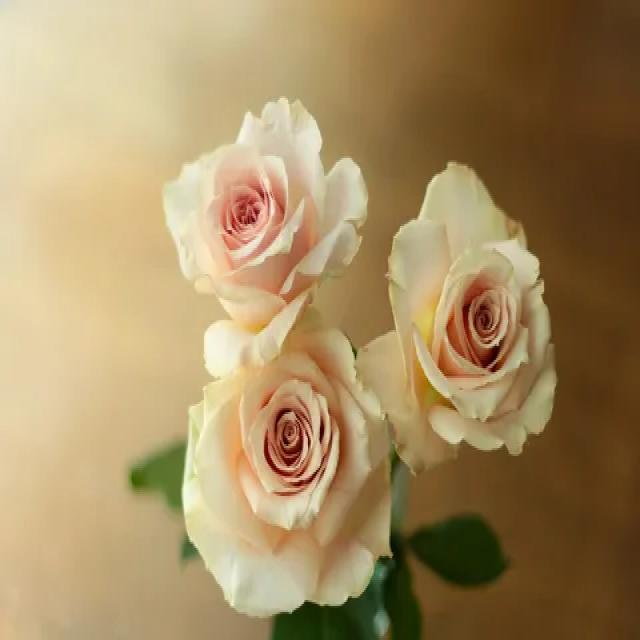rose: (162, 324, 416, 620)
